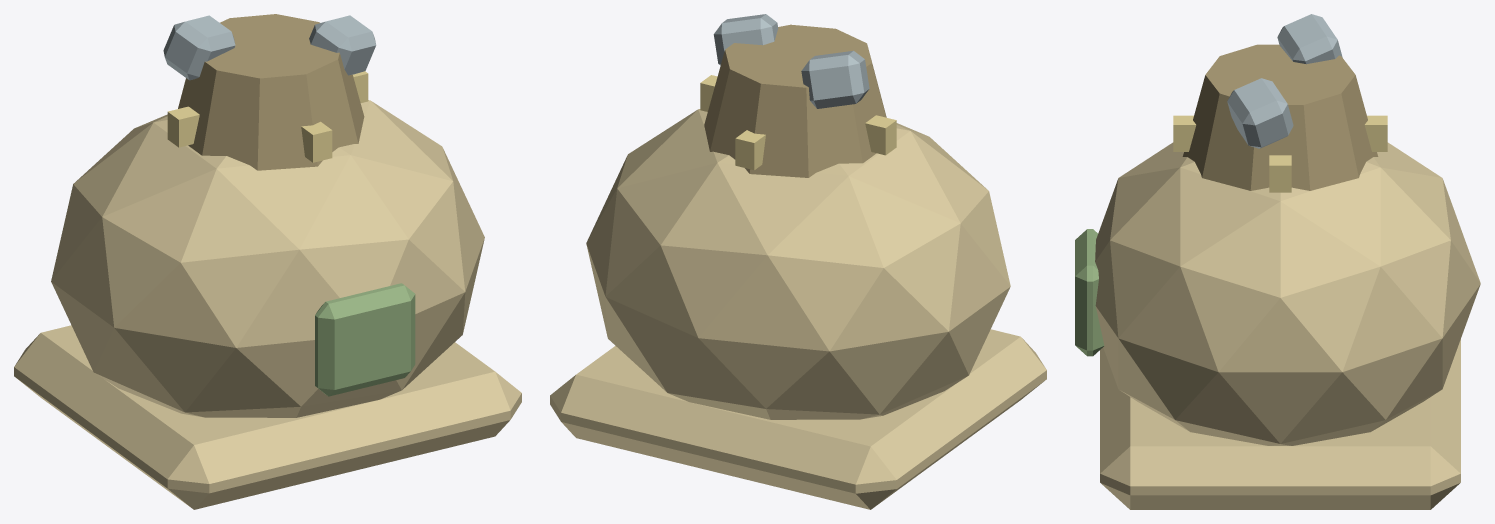
Rendered from loot_item_bag.glb.
3 renders of one model, left to right at view 1: azimuth 30°, elevation 25°; view 2: azimuth 150°, elevation 25°; view 3: azimuth 270°, elevation 25°, orthographic. The views are drawn at different scales.
Visible parts, largest first — view 1: Bag_Body, Bag_Slump, Bag_Neck, Bag_Patch, Bag_Spill_1, Bag_Spill_2, Bag_Tie_3, Bag_Tie_4; view 2: Bag_Body, Bag_Slump, Bag_Neck, Bag_Spill_1, Bag_Spill_2, Bag_Tie_3, Bag_Tie_2; view 3: Bag_Body, Bag_Slump, Bag_Neck, Bag_Spill_2, Bag_Patch, Bag_Spill_1, Bag_Tie_1, Bag_Tie_2, Bag_Tie_4.
Part boxes in pixels (x1,y1,x2,y2): Bag_Body: (51,100,484,417); Bag_Slump: (14,325,521,509); Bag_Neck: (178,14,364,170); Bag_Patch: (315,283,415,396); Bag_Spill_1: (163,15,235,80); Bag_Spill_2: (309,15,376,75); Bag_Tie_3: (167,106,199,147); Bag_Tie_4: (301,121,332,162); Bag_Body: (586,109,1010,419); Bag_Slump: (550,329,1046,509); Bag_Neck: (704,24,886,177); Bag_Spill_1: (801,50,869,108); Bag_Spill_2: (713,14,778,65); Bag_Tie_3: (865,115,896,155); Bag_Tie_2: (735,130,765,170); Bag_Body: (1095,142,1480,445); Bag_Slump: (1100,339,1460,509); Bag_Neck: (1182,44,1378,190); Bag_Spill_2: (1227,78,1293,148); Bag_Patch: (1075,229,1104,356); Bag_Spill_1: (1277,14,1342,64); Bag_Tie_1: (1269,155,1291,192); Bag_Tie_2: (1364,115,1387,151); Bag_Tie_4: (1173,115,1196,151).
Bounding box in the file's own units: 0.4185 × 0.4317 × 0.405.
